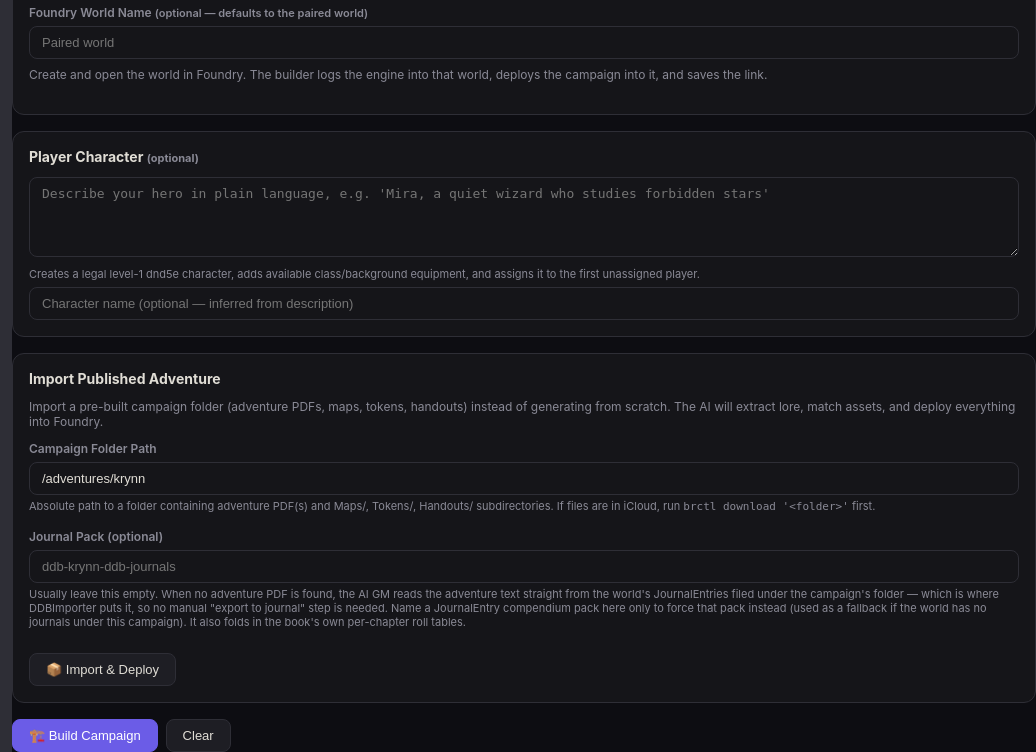
Test: CampaignBuilder › refuses to import without a campaign name, and says why
The image size is (1036, 752).
(page scrolled)
Click the button "📦 Import & Deploy". click: (102, 670)
box: [29, 653, 176, 686]
(page scrolled)
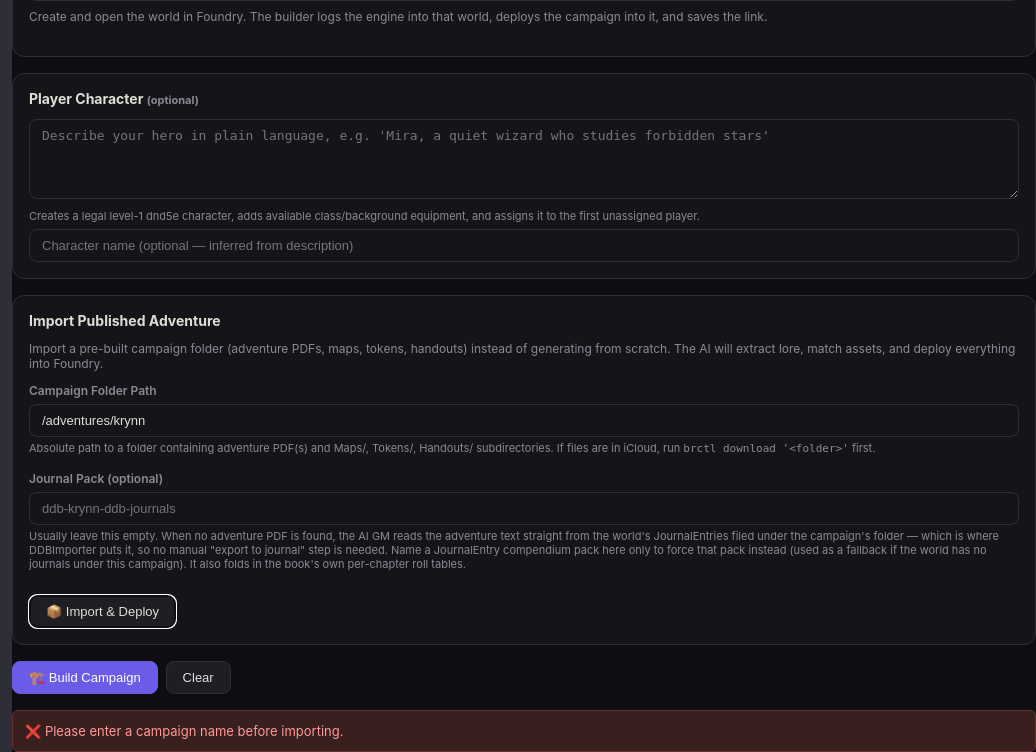
expect the text "❌ Please enter a campaign name before importing." is shown: met, box [25, 723, 344, 739]
